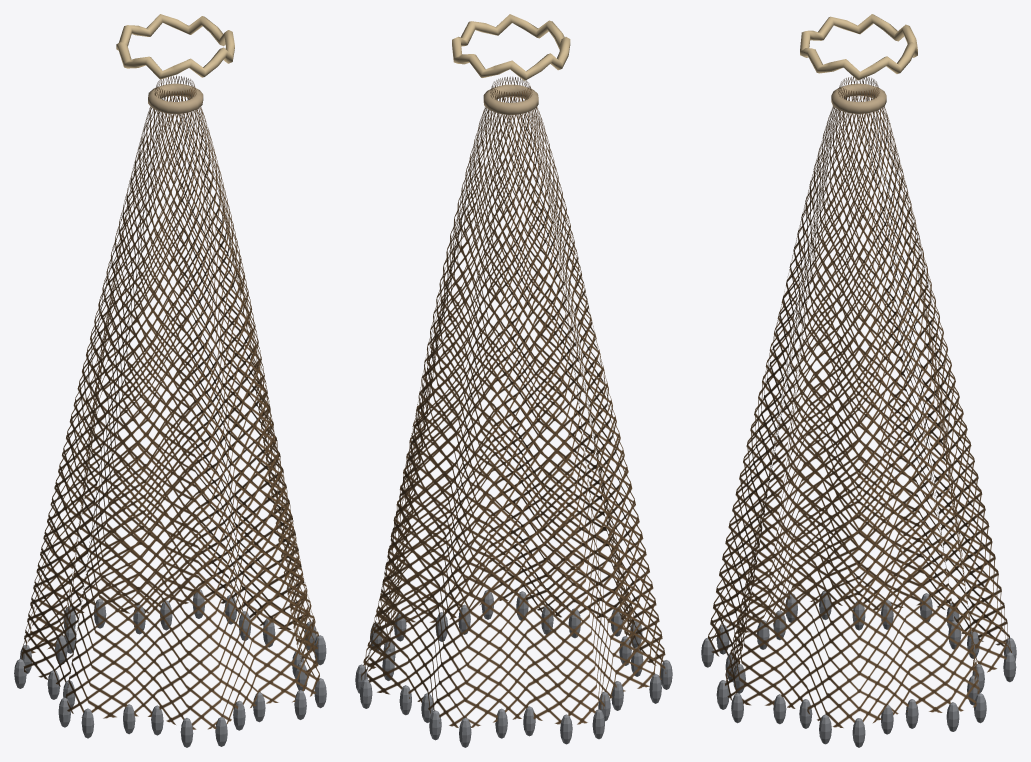
The model's file is veesu_vala_held.glb.
3 renders of one model, left to right at view 1: azimuth 30°, elevation 25°; view 2: azimuth 150°, elevation 25°; view 3: azimuth 270°, elevation 25°, orthographic.
Parts seen in each view (by area): view 1: VeesuVala_HeldBody, VeesuVala_WristCoil, VeesuVala_ApexTie; view 2: VeesuVala_HeldBody, VeesuVala_WristCoil, VeesuVala_ApexTie; view 3: VeesuVala_HeldBody, VeesuVala_WristCoil, VeesuVala_ApexTie.
Part boxes in pixels (box(x1,y1,x2,y2)): VeesuVala_HeldBody: box(21, 75, 319, 729); VeesuVala_WristCoil: box(116, 14, 234, 79); VeesuVala_ApexTie: box(148, 83, 203, 114); VeesuVala_HeldBody: box(361, 76, 666, 727); VeesuVala_WristCoil: box(452, 14, 570, 80); VeesuVala_ApexTie: box(483, 84, 538, 114); VeesuVala_HeldBody: box(708, 77, 1011, 727); VeesuVala_WristCoil: box(800, 14, 917, 80); VeesuVala_ApexTie: box(831, 83, 886, 114).
Size of the model in its own units: 0.3744 by 0.8466 by 0.375.
Materials: 4 (1 with a texture image).
